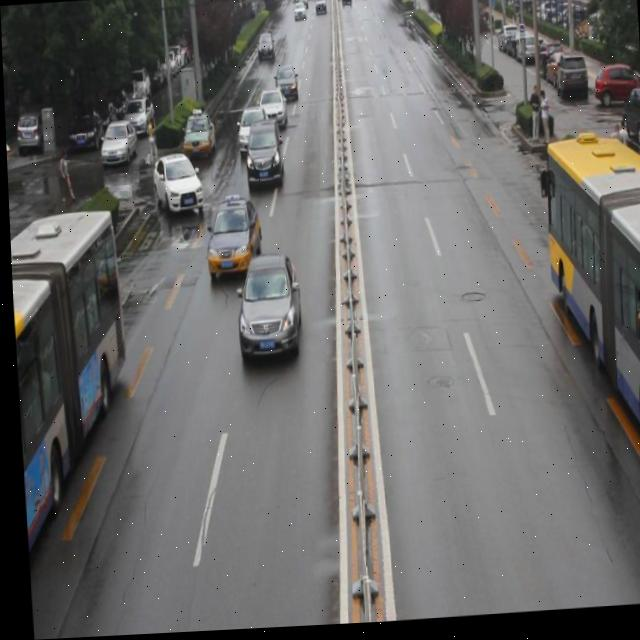car: (232, 256, 296, 369), (202, 200, 257, 282), (150, 153, 200, 219), (242, 122, 282, 191), (179, 108, 215, 166), (234, 107, 266, 164), (255, 91, 284, 133), (272, 70, 296, 107)
van: (7, 208, 131, 554), (535, 147, 640, 490)
